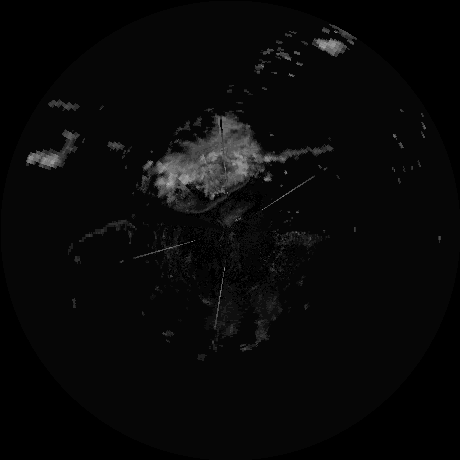frontgust: (181, 178, 248, 215)
